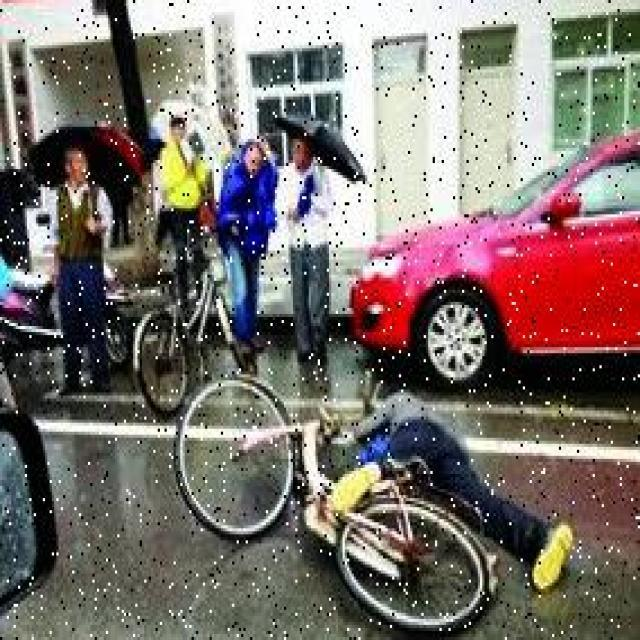fall: (345, 380, 570, 570)
